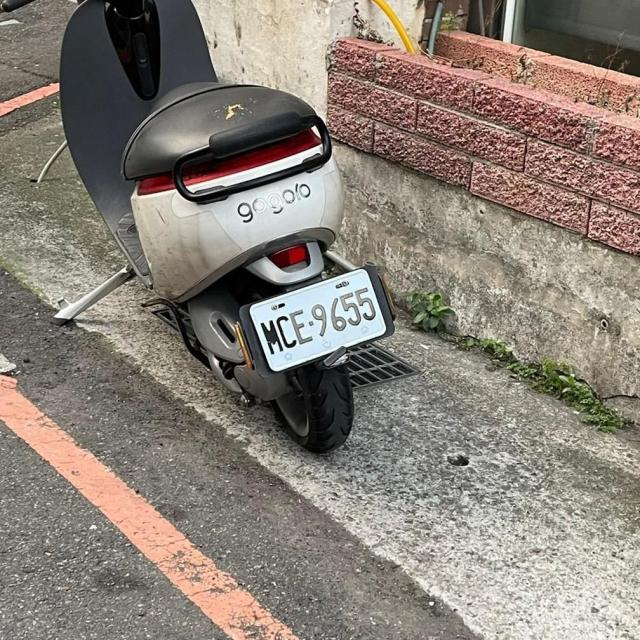W: (231, 259, 401, 382)
